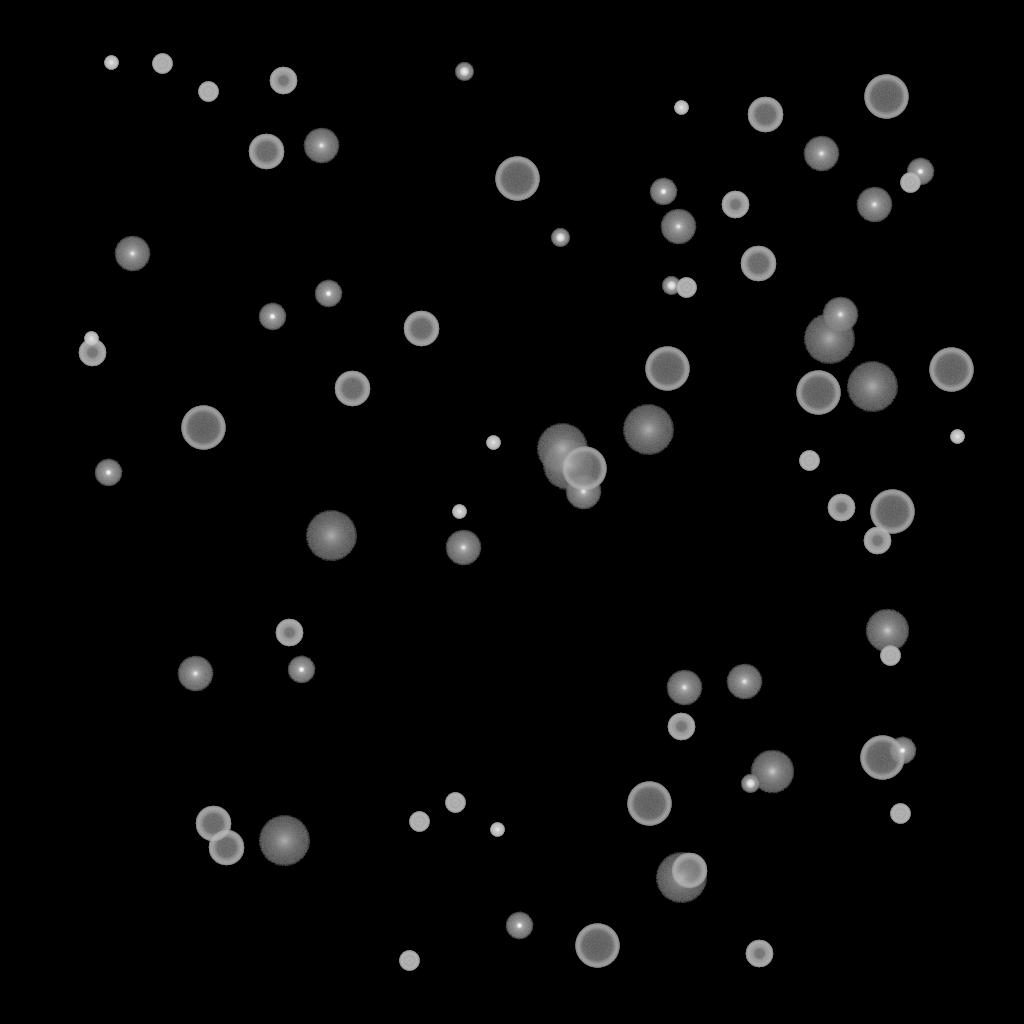depth:-10: (906, 158, 934, 186), (649, 178, 677, 206), (258, 303, 286, 331), (314, 280, 342, 308), (505, 912, 533, 940), (94, 459, 122, 487), (888, 737, 916, 765), (287, 656, 315, 684)
depth:-20: (455, 63, 473, 81), (741, 775, 759, 793), (662, 277, 680, 295), (551, 229, 569, 247)
depth:-30: (674, 101, 688, 115), (452, 505, 466, 519), (486, 436, 500, 450), (104, 56, 118, 70), (950, 430, 964, 444), (490, 823, 504, 837), (84, 332, 98, 346)
depth:-40: (409, 812, 429, 832), (799, 451, 819, 471), (152, 54, 172, 74), (880, 646, 900, 666), (198, 82, 218, 102), (890, 804, 910, 824), (900, 173, 920, 193), (445, 793, 465, 813), (399, 951, 419, 971), (676, 278, 696, 298)
depth:-50: (721, 191, 749, 219), (275, 619, 303, 647), (745, 940, 773, 968), (863, 527, 891, 555), (269, 67, 297, 95), (78, 339, 106, 367), (827, 494, 855, 522), (667, 713, 695, 741)
depth:-60: (334, 371, 370, 407), (248, 134, 284, 170), (740, 246, 776, 282), (208, 830, 244, 866), (671, 853, 707, 889), (403, 311, 439, 347), (747, 97, 783, 133), (195, 806, 231, 842)
depth:-70: (864, 75, 908, 119), (645, 347, 689, 391), (562, 447, 606, 491), (627, 782, 671, 826), (181, 406, 225, 450), (796, 371, 840, 415), (575, 924, 619, 968), (860, 736, 904, 780), (870, 490, 914, 534), (495, 157, 539, 201), (929, 348, 973, 392)
depth:0: (822, 297, 858, 333), (726, 664, 762, 700), (660, 209, 696, 245), (666, 670, 702, 706), (856, 187, 892, 223), (445, 530, 481, 566), (114, 236, 150, 272), (177, 656, 213, 692), (565, 474, 601, 510), (303, 128, 339, 164), (803, 136, 839, 172)
depth:10: (750, 750, 794, 794), (865, 609, 909, 653)
depth:20: (305, 511, 357, 561), (655, 853, 707, 903), (542, 440, 594, 490), (803, 314, 855, 364), (846, 362, 898, 412), (622, 405, 674, 455), (258, 816, 310, 866), (536, 424, 588, 474)
